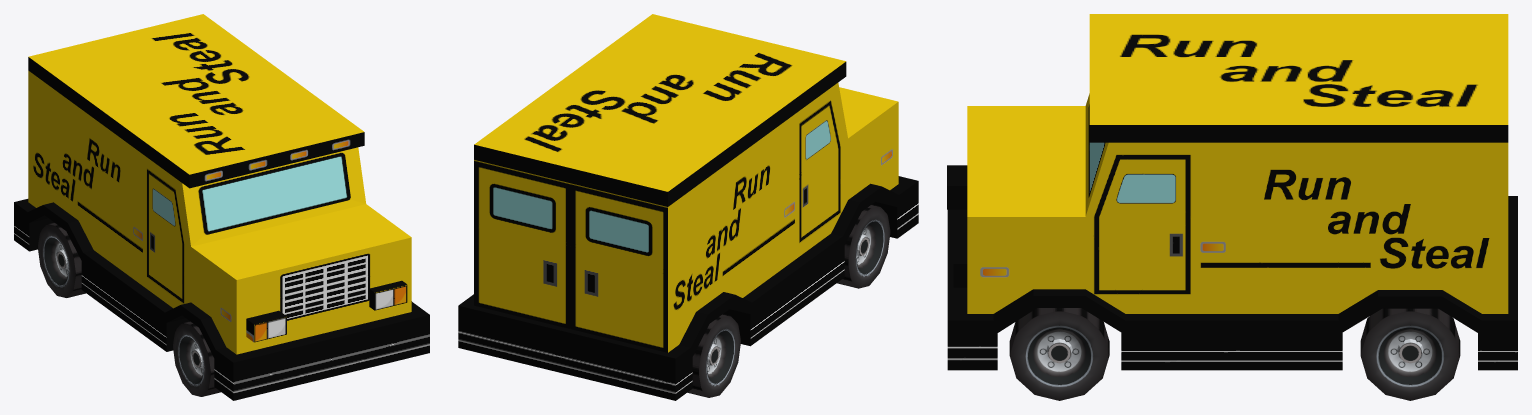
File: Car_RAS_x10_150526.fbx
3 views of the same model, side by side, from view 1: azimuth 30°, elevation 25°; view 2: azimuth 150°, elevation 25°; view 3: azimuth 270°, elevation 25° (orthographic). The views are drawn at different scales.
Visible parts, largest first — view 1: Cash_car; view 2: Cash_car; view 3: Cash_car.
Boxes of the visible parts, x1,y1,x2,y2 form: Cash_car: [14, 14, 429, 400]; Cash_car: [458, 14, 918, 400]; Cash_car: [947, 14, 1517, 400].
Size of the model in its own units: 22.29 by 22.69 by 43.17.
Materials: 1 (1 with a texture image).
